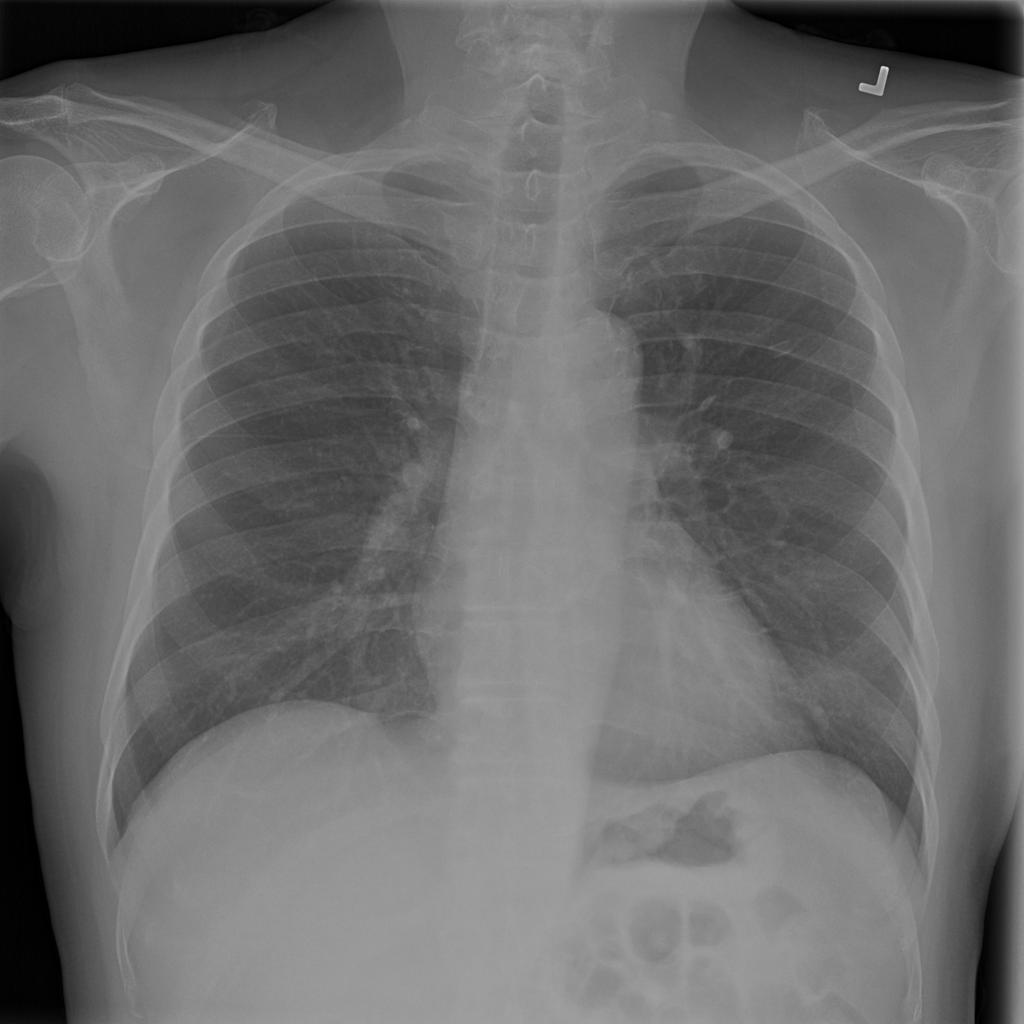nodule: (703, 420, 741, 457)
